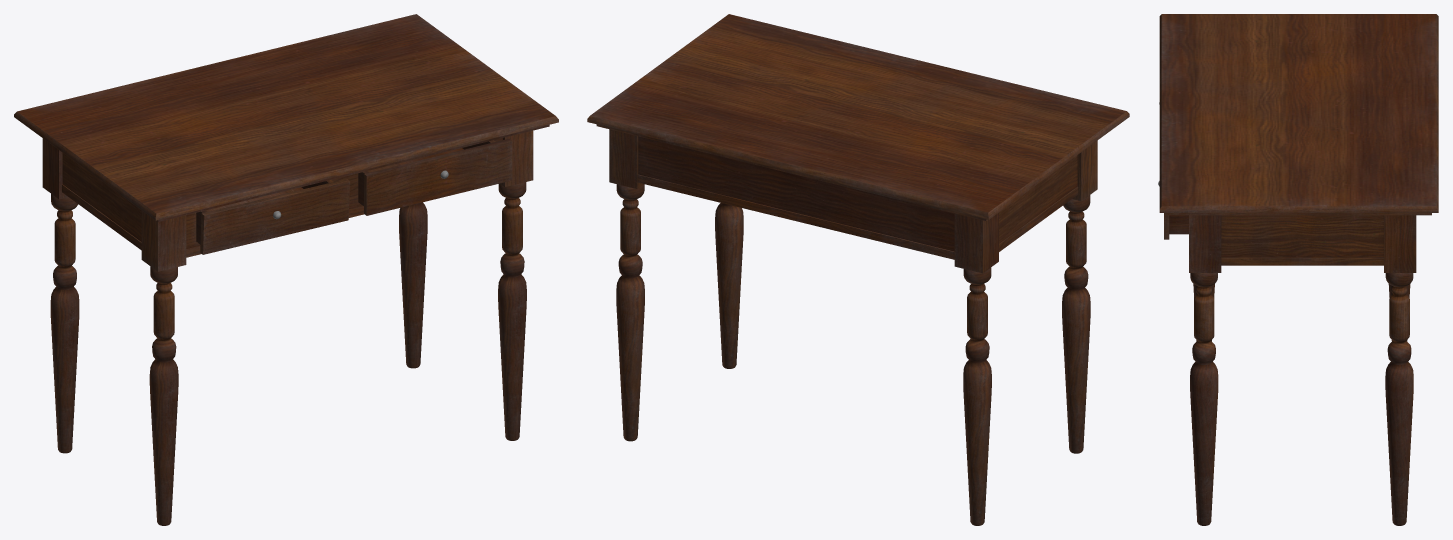
File: desk.glb
3 renders of one model, left to right at view 1: azimuth 30°, elevation 25°; view 2: azimuth 150°, elevation 25°; view 3: azimuth 270°, elevation 25°, orthographic.
Visible parts, largest first — view 1: ds; view 2: ds; view 3: ds.
Boxes of the visible parts, bbox=[...] form: ds: bbox=[14, 14, 558, 525]; ds: bbox=[587, 14, 1129, 525]; ds: bbox=[1158, 14, 1438, 525].
Size of the model in its own units: 1.05 by 0.8293 by 0.6427.
1 material, 1 textured.
